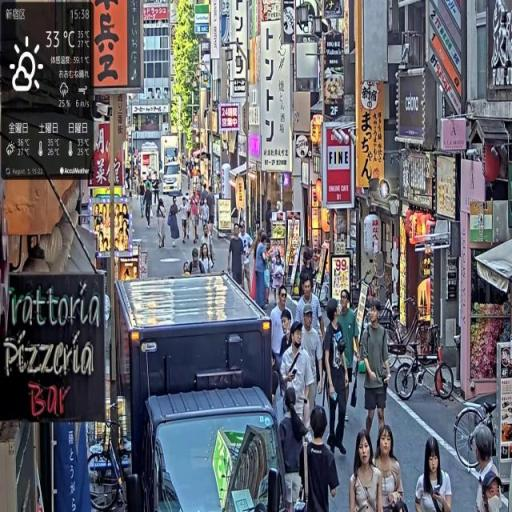person: (359, 299, 392, 458), (299, 406, 340, 512), (323, 303, 351, 456), (280, 320, 317, 431), (373, 423, 410, 512), (337, 290, 362, 416), (300, 306, 325, 427), (415, 437, 454, 512), (351, 430, 384, 511), (294, 276, 326, 343), (254, 232, 270, 314), (241, 222, 256, 296), (228, 224, 245, 286), (157, 199, 167, 250), (145, 182, 154, 227)
